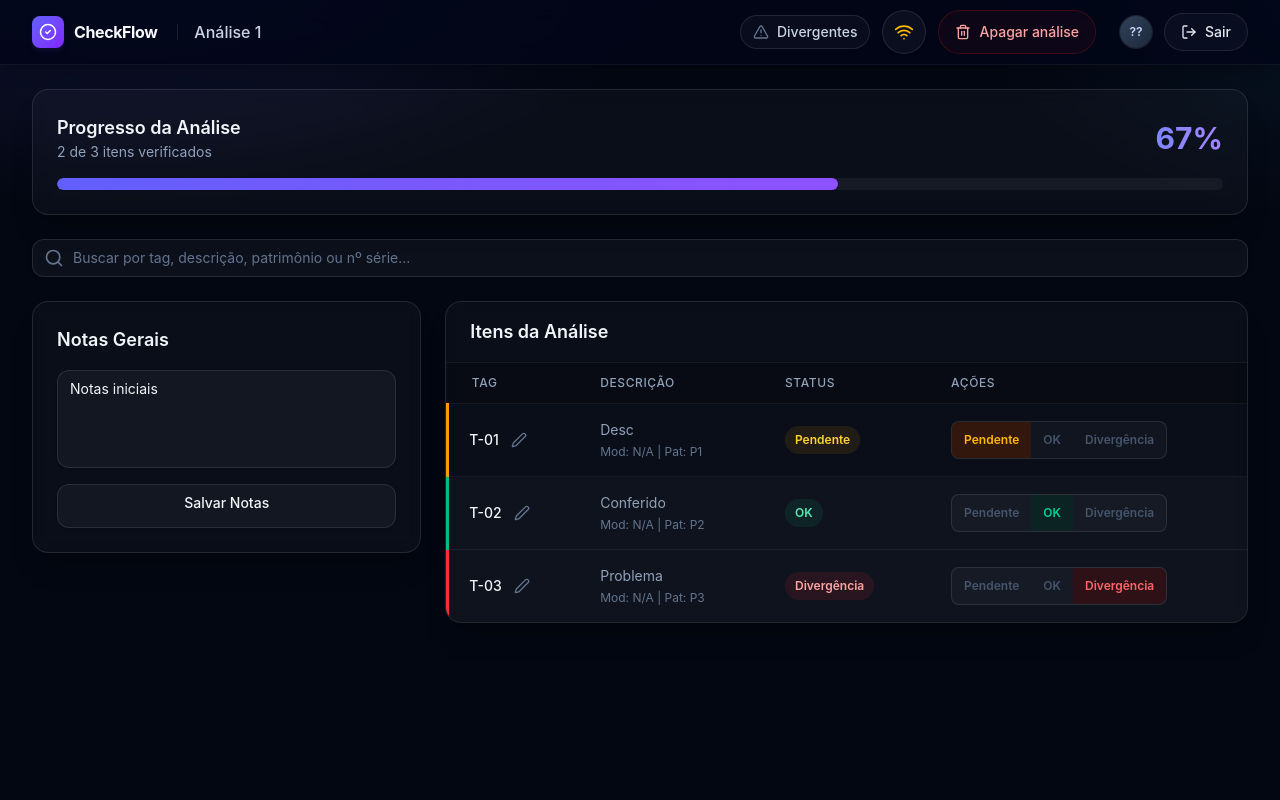
it: AnalysisDetail › filtra itens na barra de pesquisa
This screenshot has width=1280, height=800.
Type "Inexistente" into the field with placeholder "Buscar por tag, descrição, patrimônio ou nº série..." at (640, 258), box [32,239,1248,277]
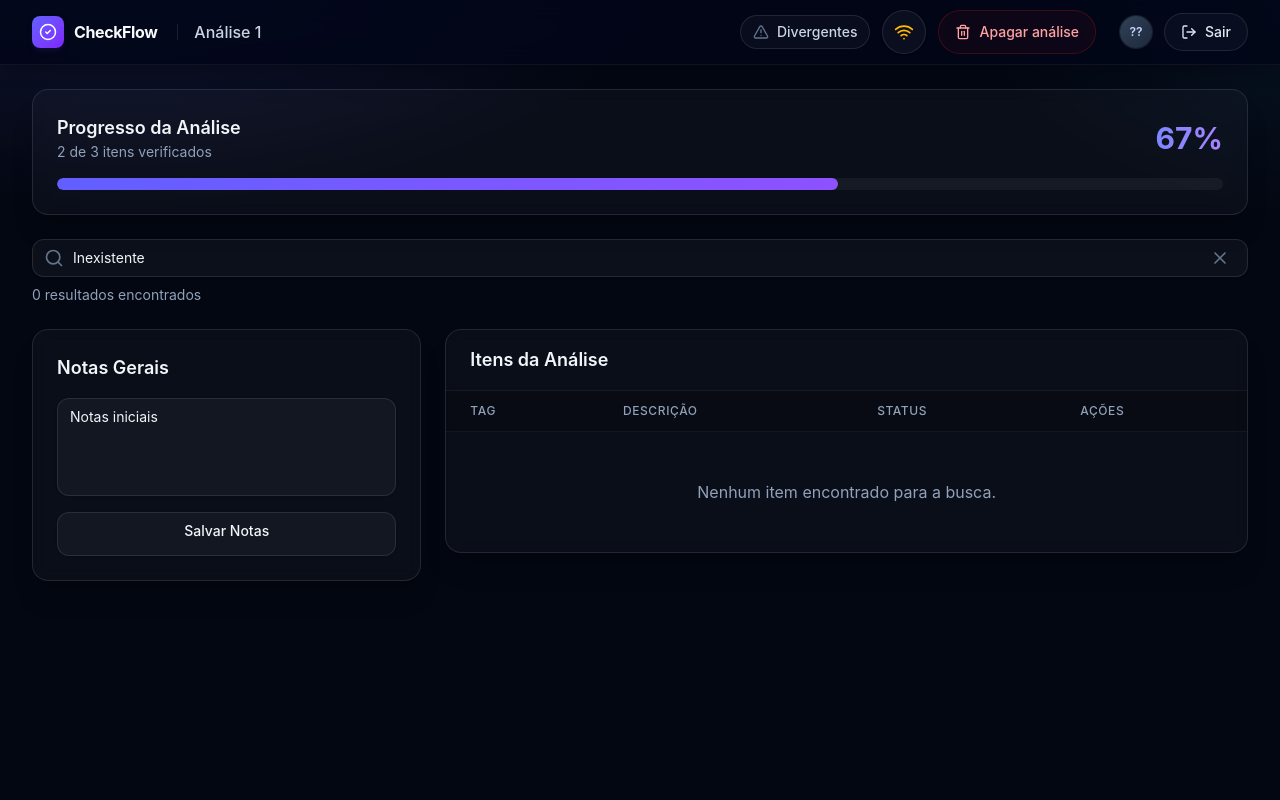
Check: the text "Nenhum item encontrado para a busca." is shown, box [446,432,1247,552]
Replace the text in the field with placeholder "Buscar por tag, descrição, patrimônio ou nº série..." with "T-01" at (640, 258), box [32,239,1248,277]
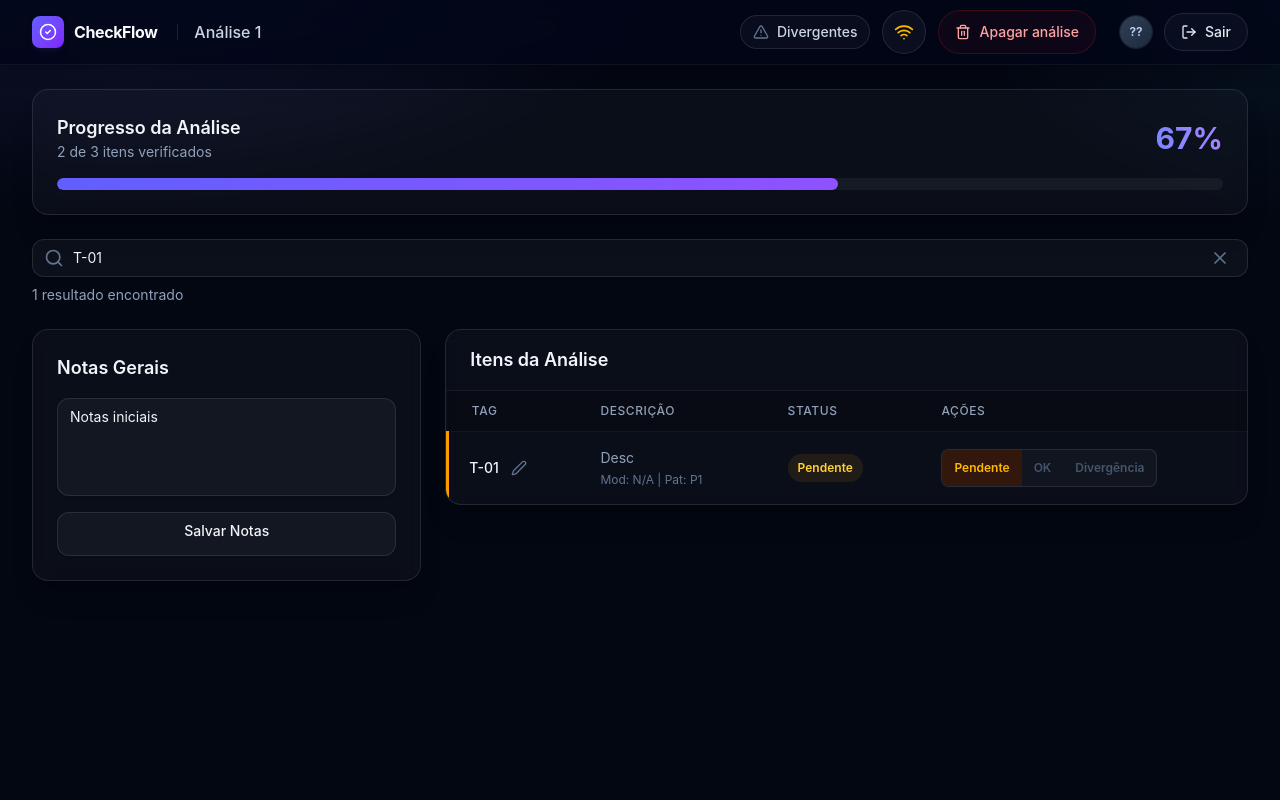
Check: the text "T-01" is shown, box [469,456,531,480]
